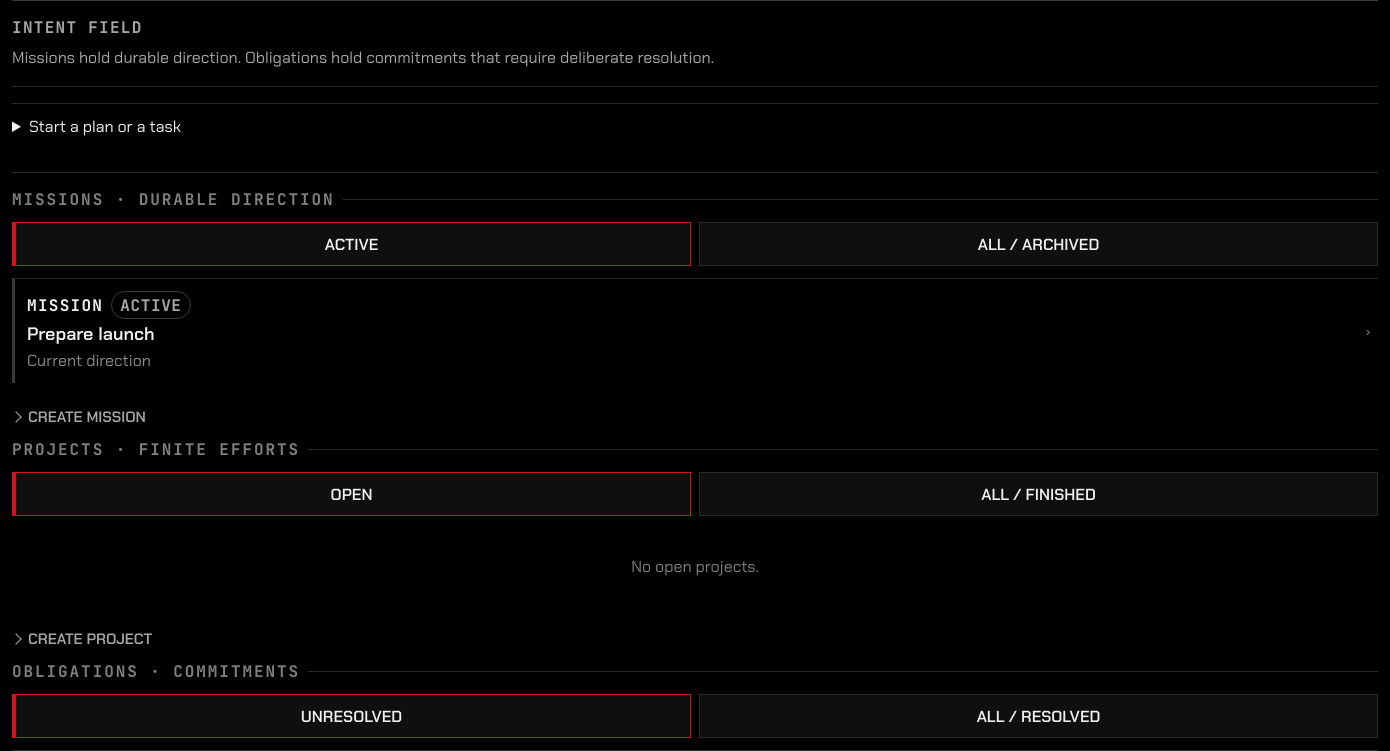
Test: IntentScreen (real browser) › requires explicit confirmation for one-way archive and release, with correct hierarchy
Click the button with aria-label "Open Prepare launch" at (65, 305), box top-left (12, 278), bottom-right (1378, 383)
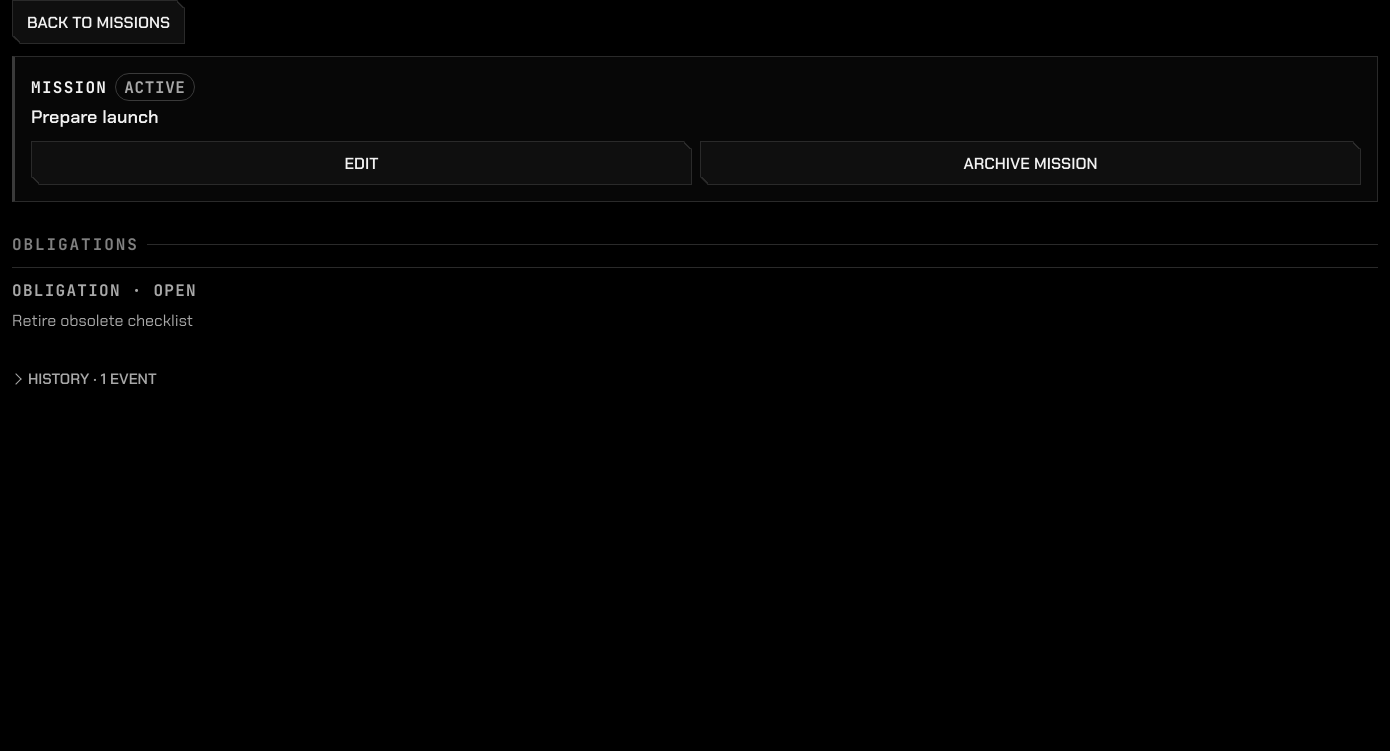
Click the button "ARCHIVE MISSION" at (1030, 163), box top-left (700, 141), bottom-right (1361, 185)
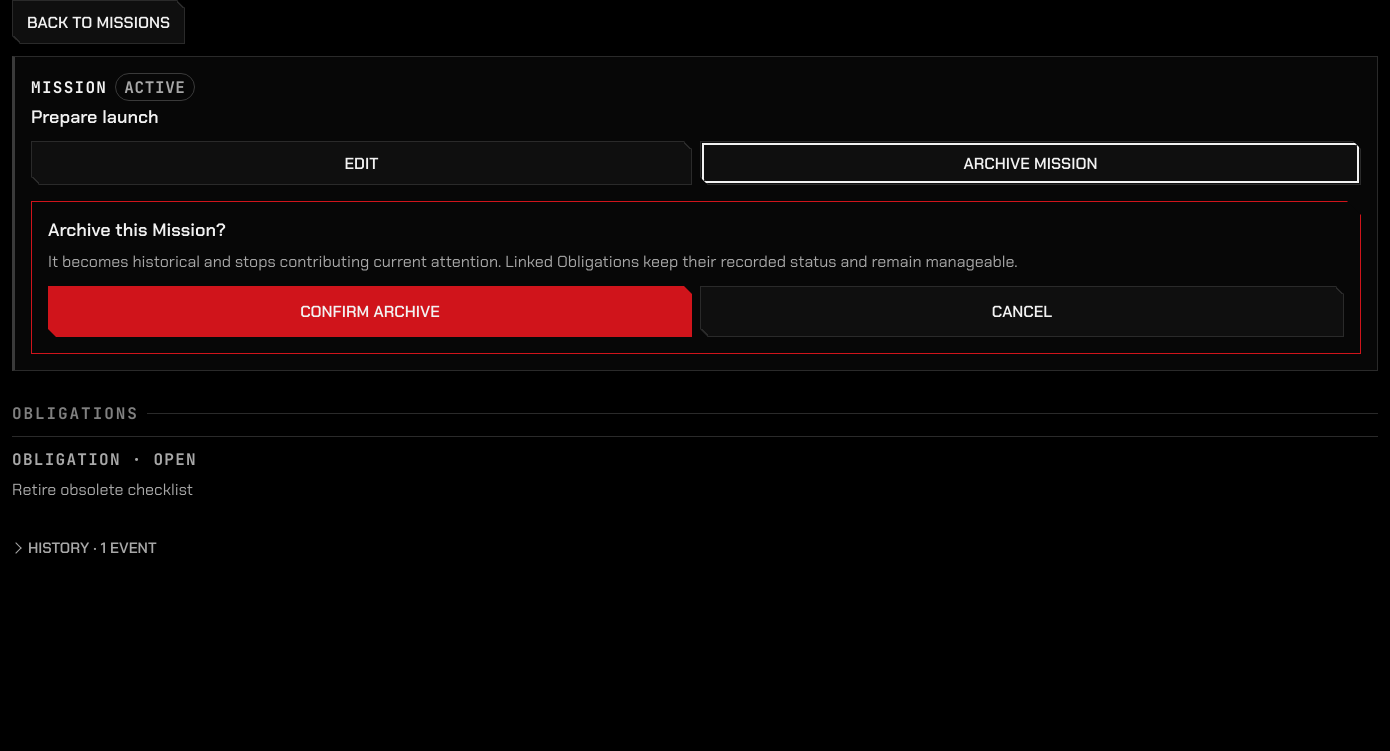
Now the text "Archive this Mission?" is shown, box top-left (48, 218), bottom-right (226, 242)
Click the button "CANCEL" at (1022, 312), box top-left (700, 286), bottom-right (1344, 337)
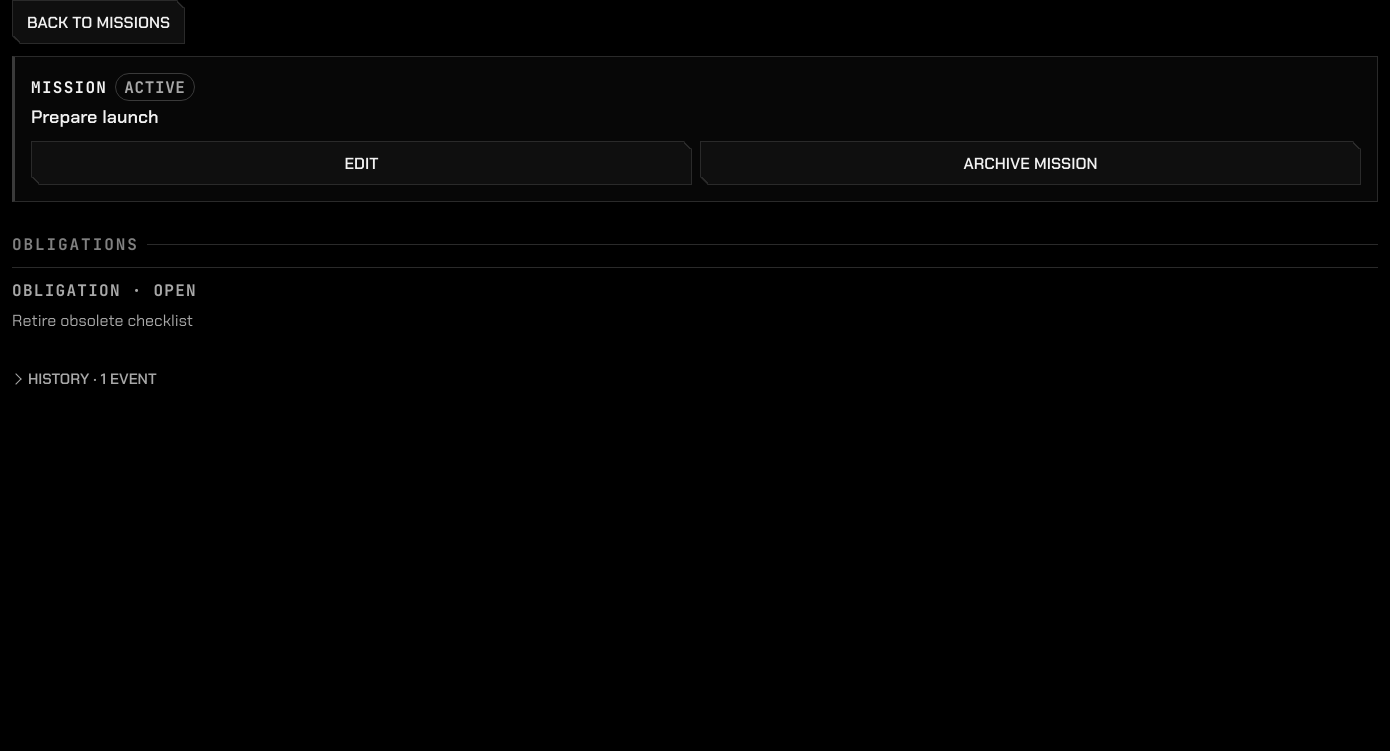
Click the button "BACK TO MISSIONS" at (99, 22), box top-left (12, 0), bottom-right (185, 44)
(page scrolled)
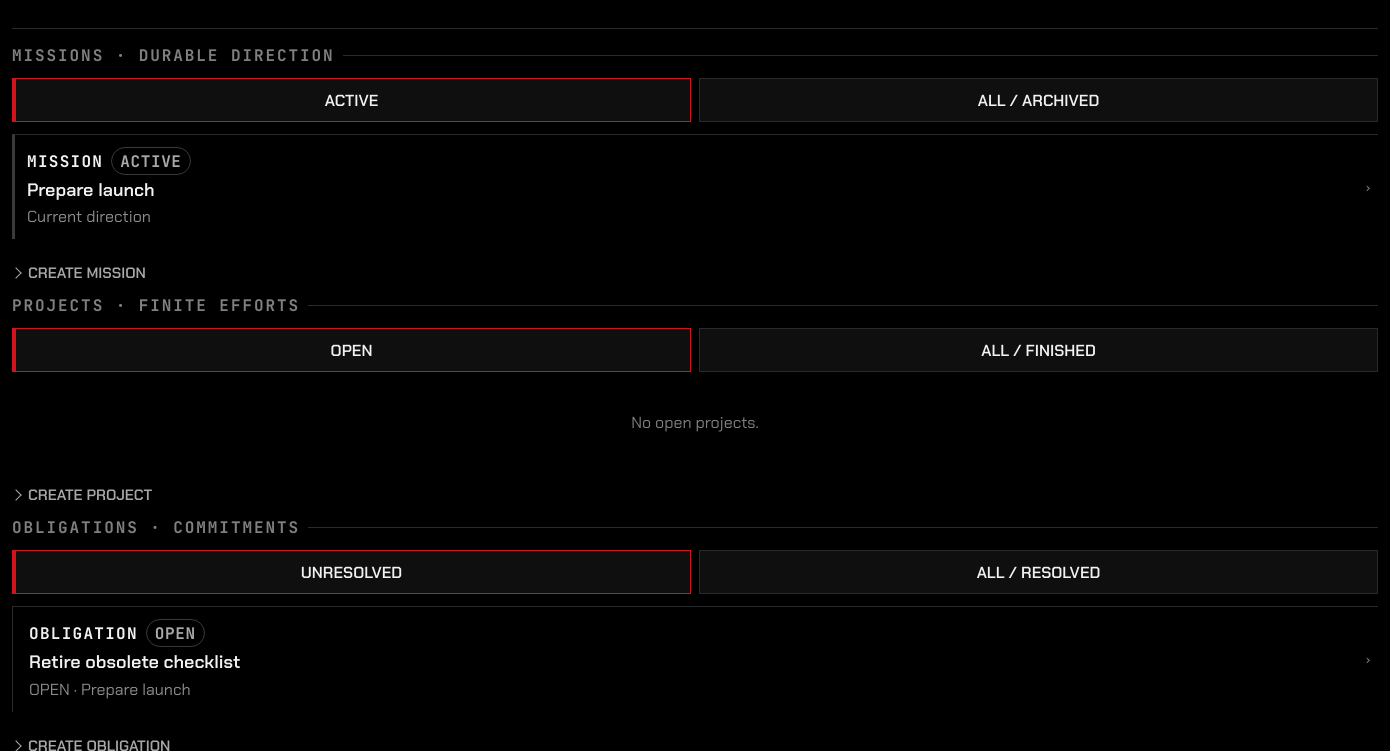
Click the button "OPEN Retire obsolete checklist" at (83, 633), box top-left (12, 606), bottom-right (1378, 712)
(page scrolled)
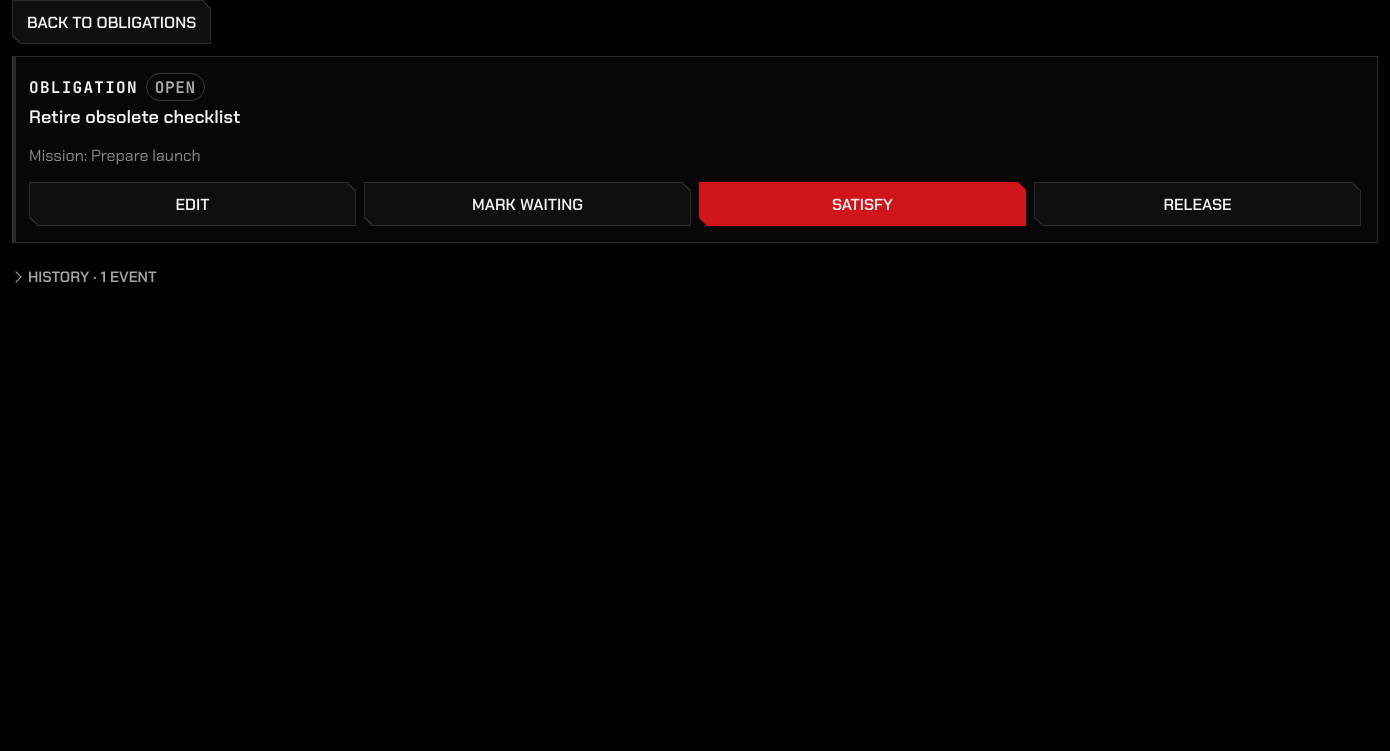
Click the button "RELEASE" at (1198, 204), box top-left (1034, 182), bottom-right (1361, 226)
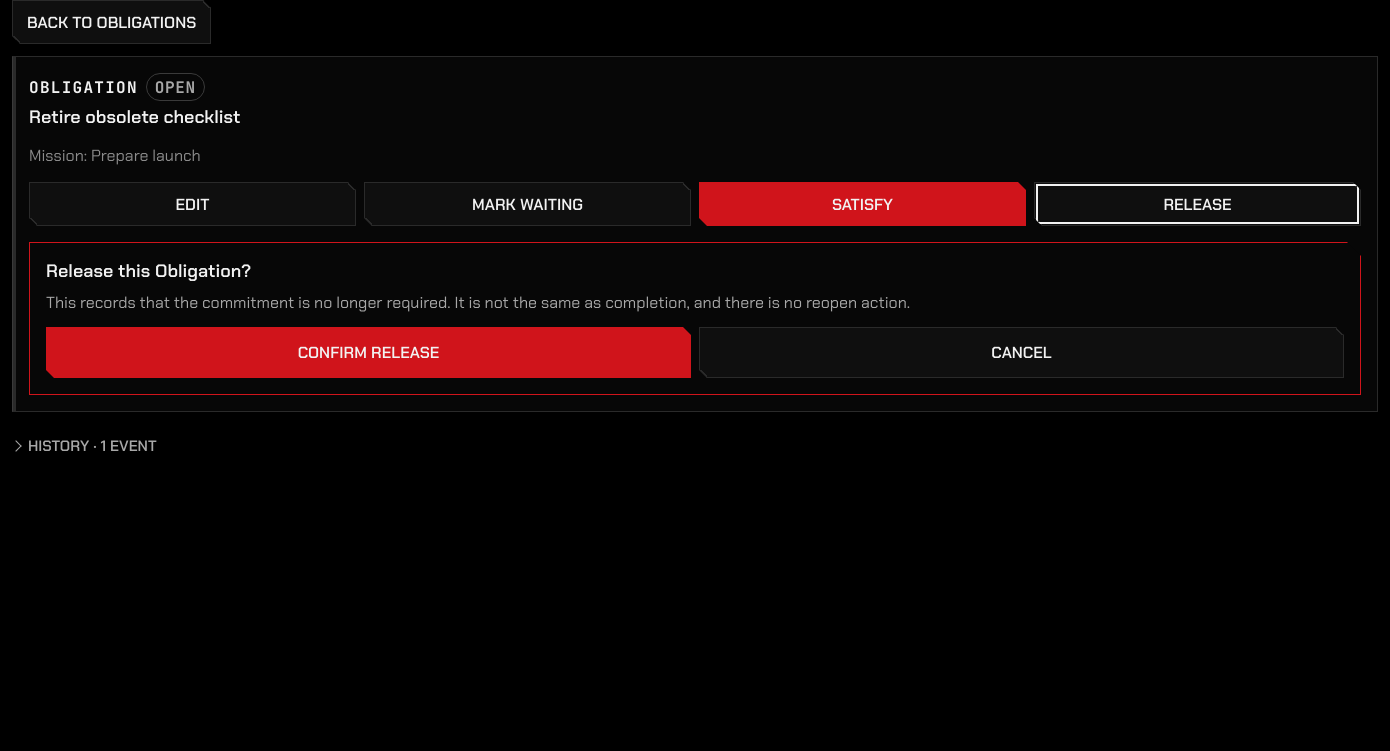
Now the text "Release this Obligation?" is shown, box top-left (46, 259), bottom-right (251, 283)
